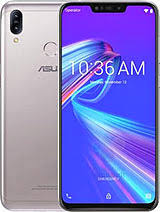asus: (1, 1, 160, 211), (56, 2, 160, 211)
